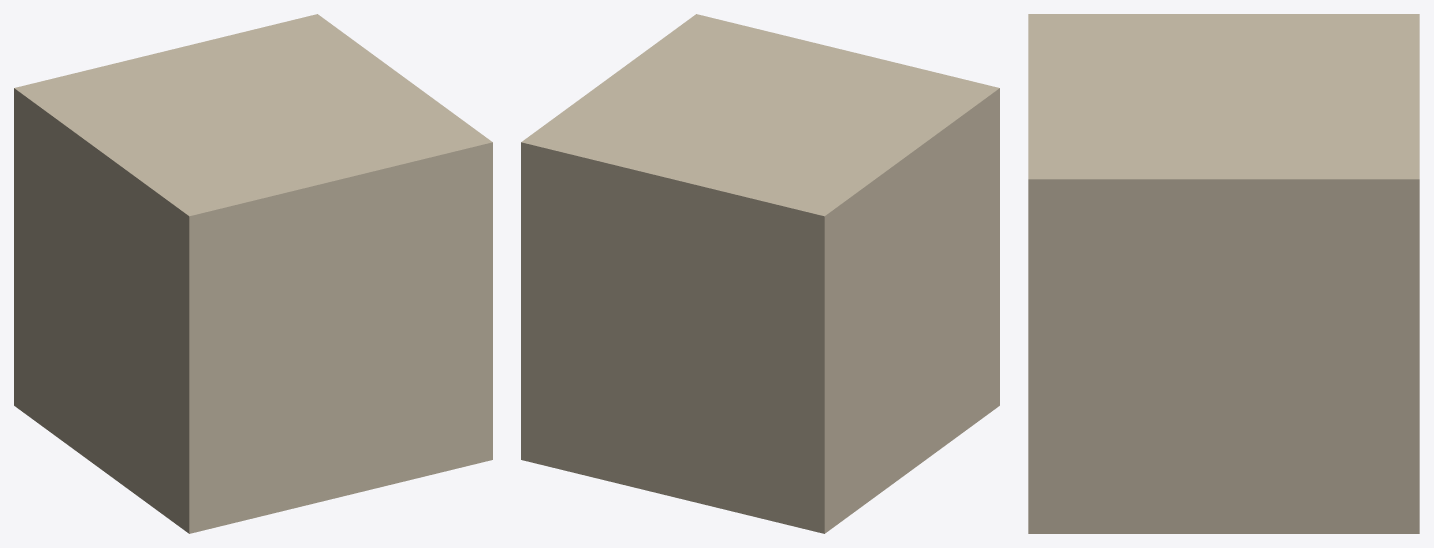
Rendered from 42_garden_path.glb.
3 views of the same model, side by side, from view 1: azimuth 30°, elevation 25°; view 2: azimuth 150°, elevation 25°; view 3: azimuth 270°, elevation 25° (orthographic). The views are drawn at different scales.
Visible parts, largest first — view 1: Core; view 2: Core; view 3: Core.
Part boxes in pixels (x1=…): Core: x1=14, y1=14, x2=492, y2=533; Core: x1=521, y1=14, x2=999, y2=533; Core: x1=1028, y1=14, x2=1419, y2=533.
Bounding box in the file's own units: 1 × 1 × 1.
